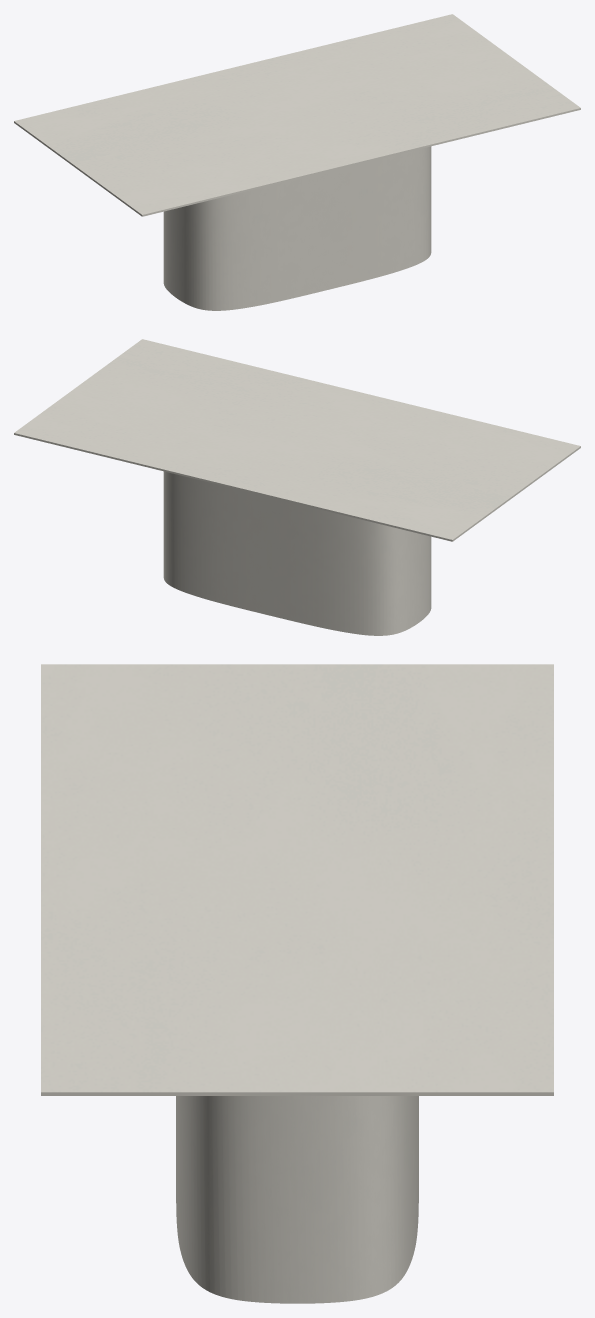
The model's file is pale_recta_facet_fixed.glb.
The picture shows the model from 3 angles, top to bottom: view 1: azimuth 30°, elevation 25°; view 2: azimuth 150°, elevation 25°; view 3: azimuth 270°, elevation 25°; orthographic projection. The views are drawn at different scales.
Parts seen in each view (by area): view 1: facet_recta, fixed; view 2: facet_recta, fixed; view 3: facet_recta, fixed.
Part boxes in pixels (x1,y1,x2,y2): facet_recta: (14,14,580,216); fixed: (163,146,431,310); facet_recta: (14,339,580,541); fixed: (163,471,431,635); facet_recta: (41,664,553,1095); fixed: (176,1096,418,1303).
Bounding box in the file's own units: 7.5 × 2.5 × 3.8.
1 material, 1 textured.
